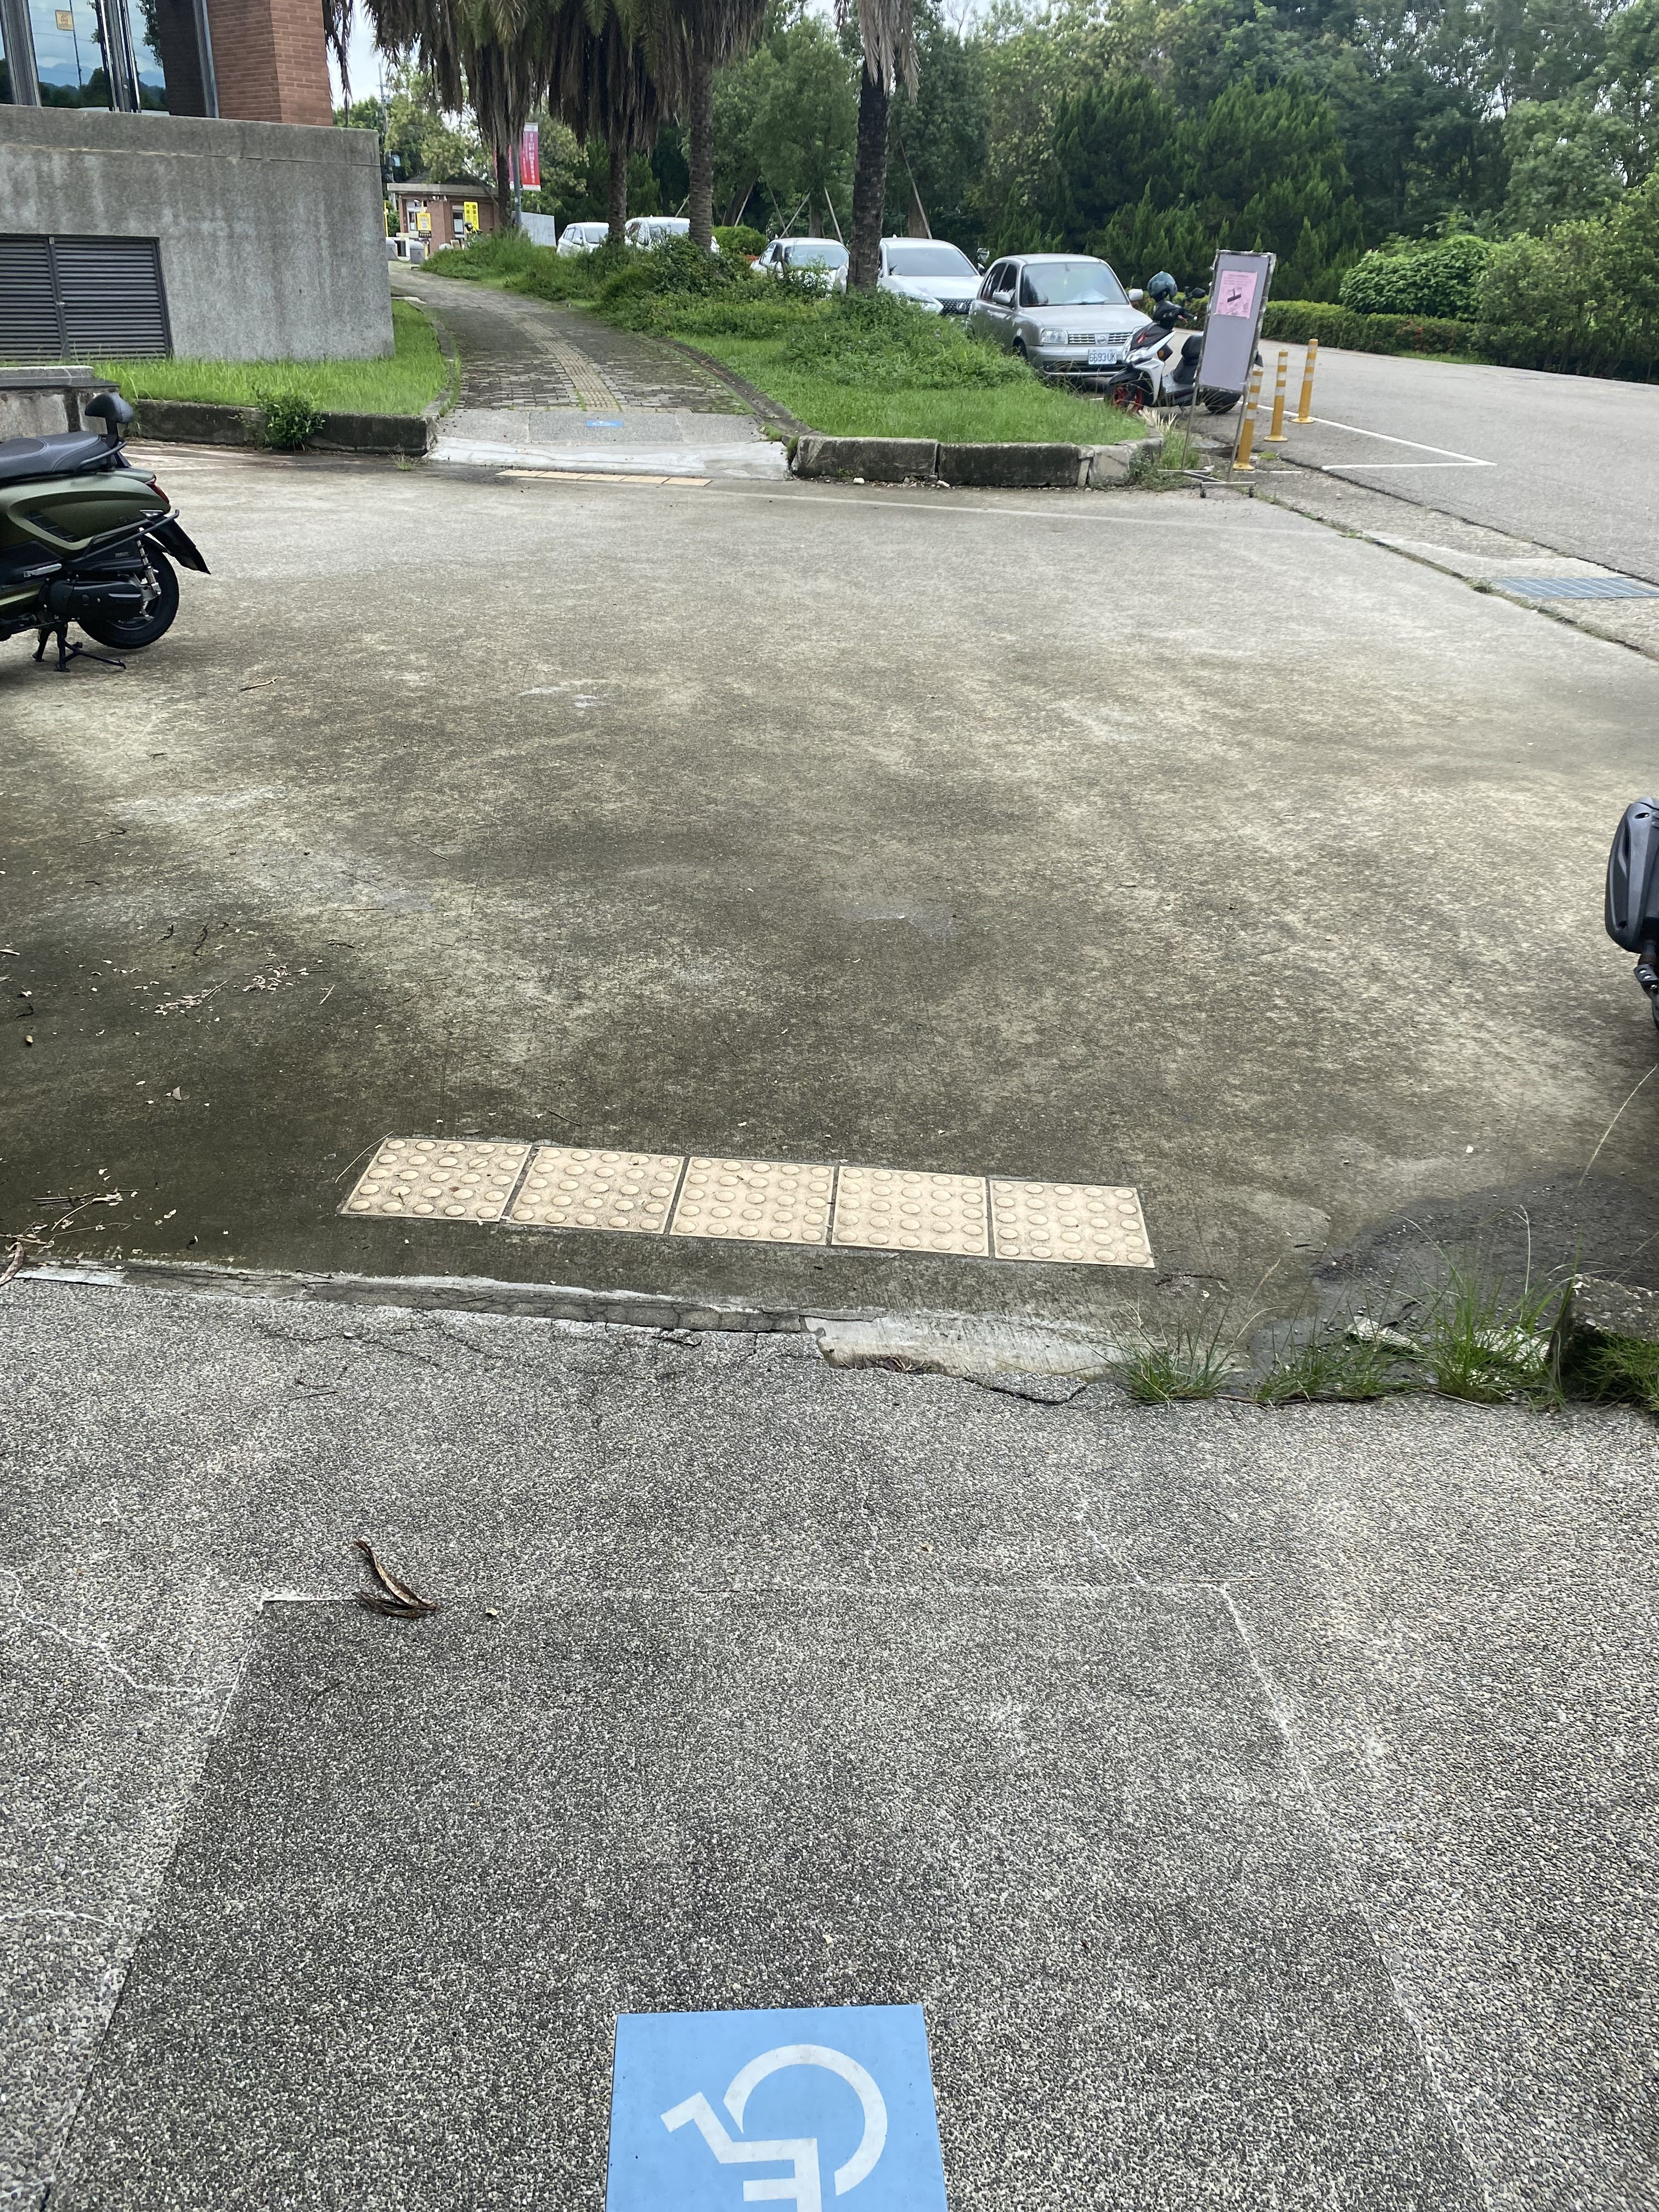0: (375, 237, 819, 524)
sidewalk: (0, 1130, 1659, 2200)
